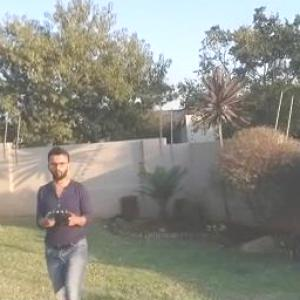follow: (34, 131, 100, 299)
